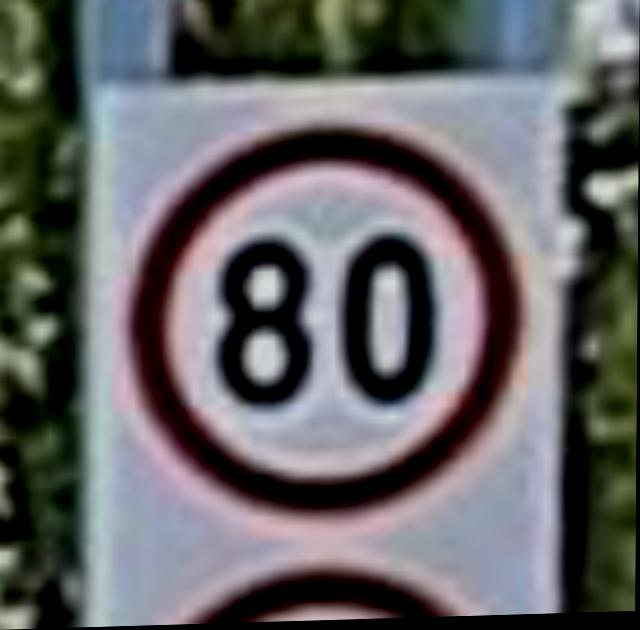limit80: (130, 115, 514, 518)
